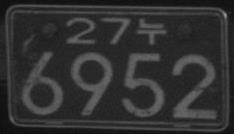2: (172, 52, 217, 120), (65, 16, 96, 45)
5: (120, 53, 165, 118)
6: (20, 52, 64, 115)
7: (99, 16, 131, 45)
9: (69, 51, 114, 116)
누: (136, 17, 167, 45)
